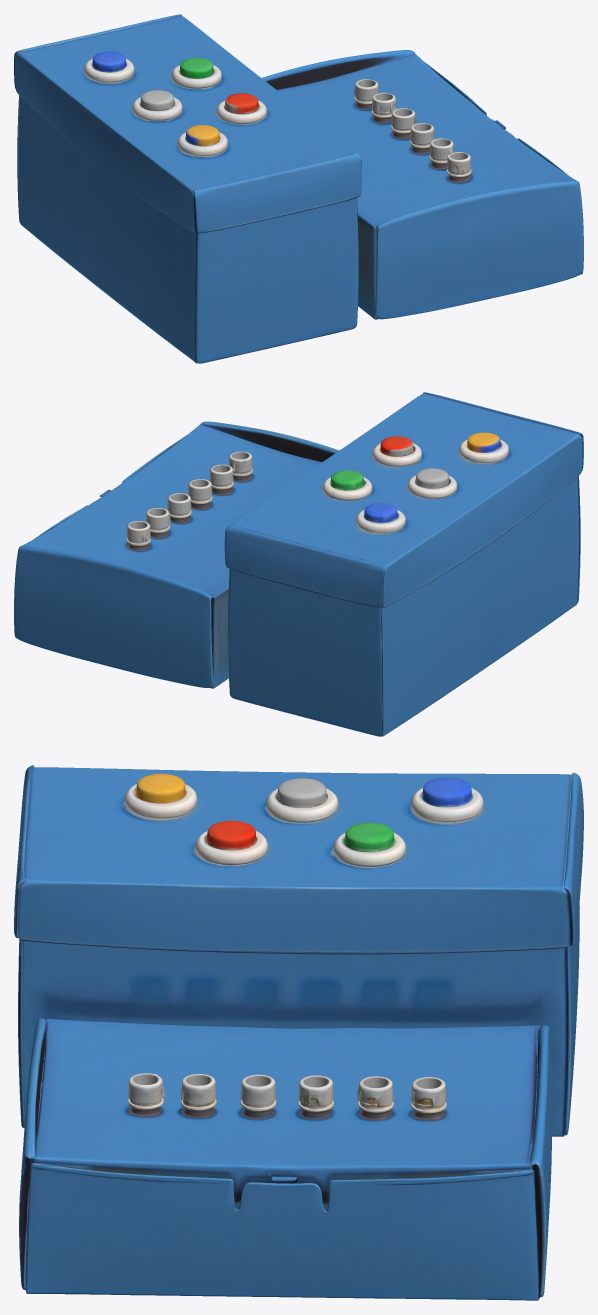
The model's file is motion-button.glb.
3 views of the same model, one above another, from view 1: azimuth 30°, elevation 25°; view 2: azimuth 150°, elevation 25°; view 3: azimuth 270°, elevation 25° (orthographic). The views are drawn at different scales.
Visible parts, largest first — view 1: tripo_node_e925489a-e699-47c7-ac98-971f30d9ee53; view 2: tripo_node_e925489a-e699-47c7-ac98-971f30d9ee53; view 3: tripo_node_e925489a-e699-47c7-ac98-971f30d9ee53.
Boxes of the visible parts, x1,y1,x2,y2 form: tripo_node_e925489a-e699-47c7-ac98-971f30d9ee53: (14, 14, 583, 363); tripo_node_e925489a-e699-47c7-ac98-971f30d9ee53: (14, 392, 583, 736); tripo_node_e925489a-e699-47c7-ac98-971f30d9ee53: (14, 765, 583, 1300).
Bounding box in the file's own units: 0.991 × 0.4664 × 0.8461.
1 material, 1 textured.
